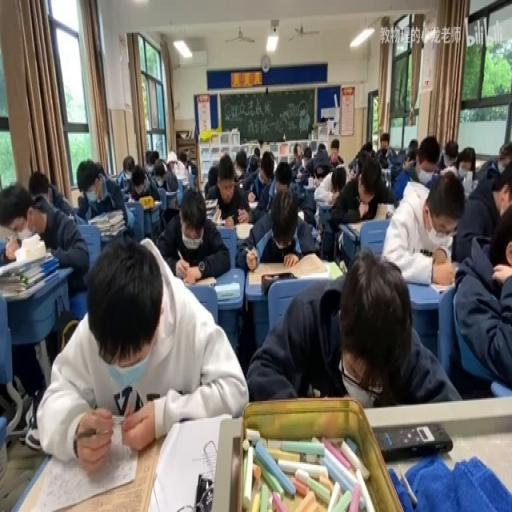calculator: (30, 417, 142, 509), (152, 412, 231, 512), (214, 282, 240, 300), (314, 196, 334, 218), (429, 279, 454, 294), (326, 260, 344, 280), (0, 220, 15, 244), (189, 273, 216, 286), (234, 222, 252, 240), (373, 202, 389, 222), (290, 179, 306, 199), (462, 176, 474, 198), (138, 199, 160, 208), (211, 205, 222, 222), (295, 168, 307, 182), (204, 199, 218, 209), (178, 175, 190, 186), (129, 194, 139, 204), (297, 208, 304, 220), (248, 201, 258, 209)
paper: (40, 233, 246, 464), (250, 250, 459, 406), (0, 176, 87, 302), (382, 166, 462, 286), (155, 185, 229, 281), (240, 184, 321, 270), (452, 154, 511, 266), (328, 152, 394, 238), (79, 155, 136, 240), (411, 135, 442, 189), (126, 161, 160, 202), (301, 145, 333, 181), (388, 144, 406, 180), (231, 148, 248, 183), (273, 159, 291, 191), (326, 138, 345, 168), (456, 146, 475, 176), (375, 132, 391, 166), (442, 138, 458, 168), (204, 165, 218, 199), (497, 142, 512, 172), (259, 154, 274, 180), (348, 150, 362, 174), (163, 165, 176, 189), (332, 174, 345, 196), (95, 159, 108, 179), (122, 155, 134, 176), (186, 154, 197, 176), (118, 174, 132, 190), (407, 140, 418, 160), (292, 144, 302, 165), (178, 150, 187, 170), (154, 161, 166, 176), (166, 151, 178, 166), (248, 154, 258, 170), (362, 141, 372, 155), (302, 145, 312, 158), (150, 150, 158, 164), (318, 142, 326, 152), (253, 145, 259, 157), (173, 196, 178, 208)
person: (373, 422, 451, 461), (194, 471, 214, 509), (262, 272, 294, 294)
